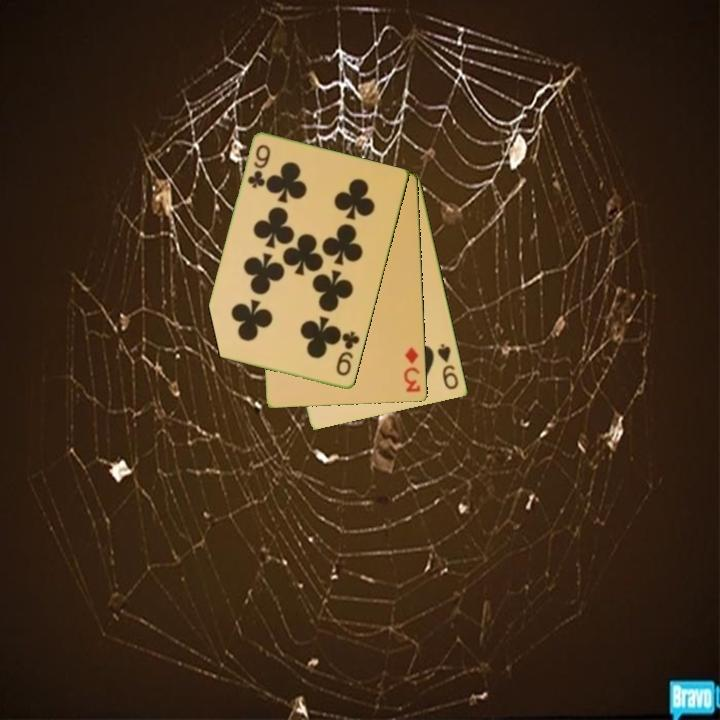3d: (401, 344, 424, 396)
9c: (333, 328, 363, 379), (244, 141, 274, 192)
9s: (434, 340, 462, 393)
